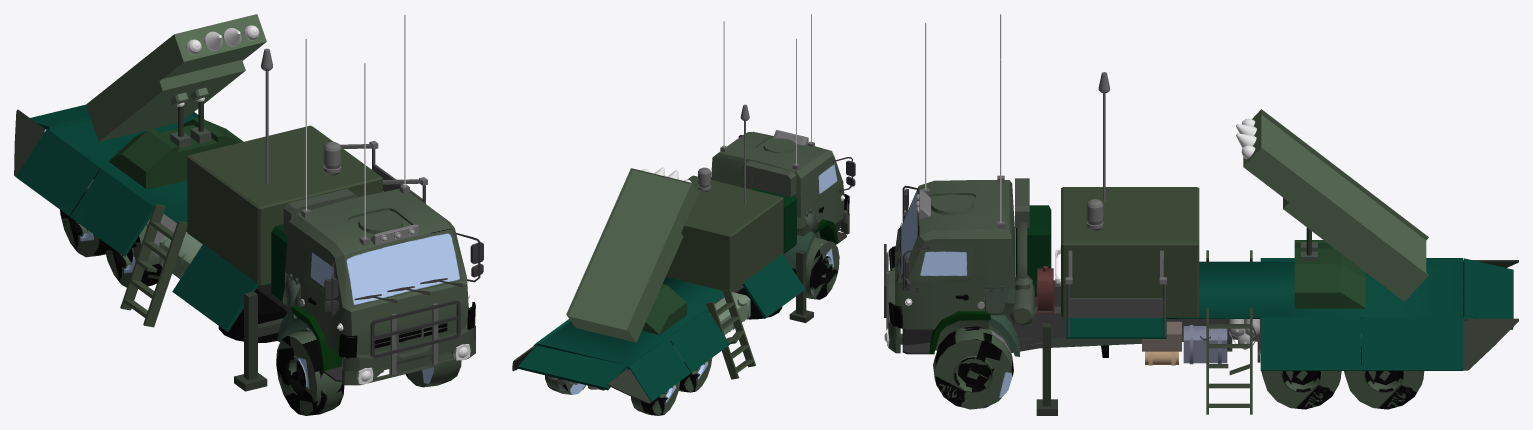
File: ladder-cracked(green).fbx
The picture shows the model from 3 angles, left to right: view 1: azimuth 30°, elevation 25°; view 2: azimuth 150°, elevation 25°; view 3: azimuth 270°, elevation 25°; orthographic projection. The views are drawn at different scales.
Visible parts, largest first — view 1: Куб.131, Куб.136, Cube, Cube.002, Цилиндр.051, Cube.001, Cube.008, Куб.096, Cube.016, Cube.007, Цилиндр.053, Cube.011 (+16 smaller); view 2: Куб.136, Cube.002, Cube, Куб.131, Цилиндр.051, Cube.008, Цилиндр.059, Cube.001, Цилиндр.001, Cube.015, Cube.016, Cube.011 (+6 smaller); view 3: Куб.136, Cube, Куб.131, Cube.002, Цилиндр.051, Cube.001, Цилиндр.001, Цилиндр.053, Цилиндр.059, Куб.118, Cube.018, Cube.015 (+12 smaller).
Part boxes in pixels (x1,y1,x2,y2): Куб.131: (285,188,475,372); Куб.136: (16,104,270,331); Cube: (187,125,382,285); Cube.002: (86,14,266,141); Цилиндр.051: (276,329,461,415); Cube.001: (108,118,243,188); Cube.008: (120,204,187,327); Куб.096: (342,325,475,385); Cube.016: (234,291,283,391); Cube.007: (370,300,460,358); Цилиндр.053: (103,225,162,287); Cube.011: (14,109,45,176); Куб.136: (515,254,805,401); Cube.002: (566,168,698,342); Cube: (666,175,783,291); Куб.131: (711,131,849,237); Цилиндр.051: (792,237,839,299); Cube.008: (706,289,755,379); Цилиндр.059: (740,161,796,197); Cube.001: (642,284,686,334); Цилиндр.001: (545,375,680,415); Cube.015: (751,188,796,253); Cube.016: (789,250,813,323); Cube.011: (607,369,650,403); Куб.136: (1065,258,1513,370); Cube: (1061,187,1199,317); Куб.131: (888,180,1014,350); Cube.002: (1243,109,1428,301); Цилиндр.051: (933,326,1013,409); Cube.001: (1294,240,1365,308); Цилиндр.001: (1344,334,1424,409); Цилиндр.053: (1261,371,1341,409); Цилиндр.059: (1009,178,1034,325); Куб.118: (1006,280,1468,352); Cube.018: (1069,298,1163,317); Cube.015: (1015,205,1051,296).
Size of the model in its own units: 732 by 1240 by 2029.
Materials: 67 (5 with a texture image).
